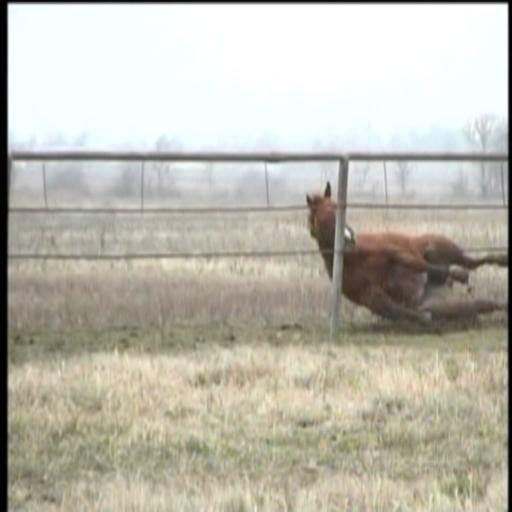horse: (306, 179, 510, 330)
